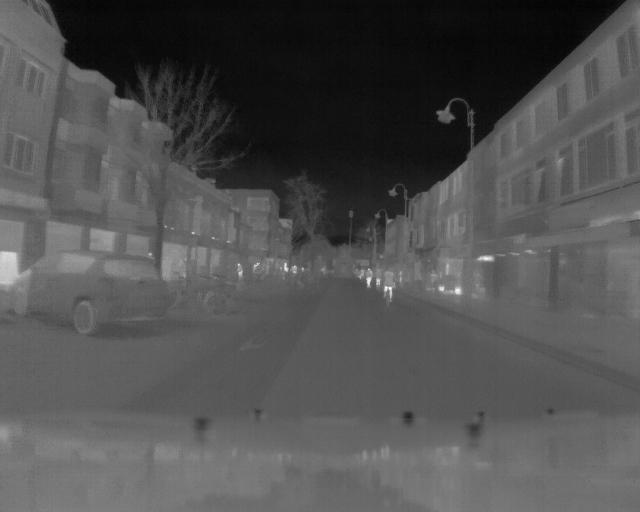car: (11, 245, 172, 342)
person: (383, 268, 396, 304), (234, 261, 245, 281), (364, 265, 372, 290)
